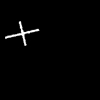single_crochet: (5, 22, 38, 44)
